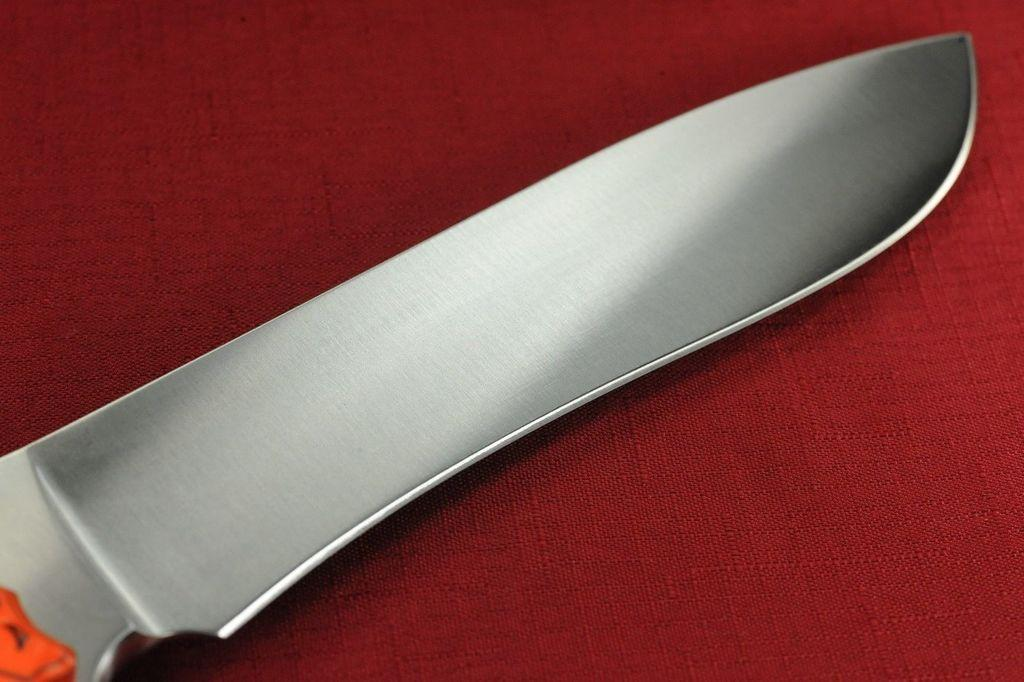knife: (0, 24, 991, 682)
